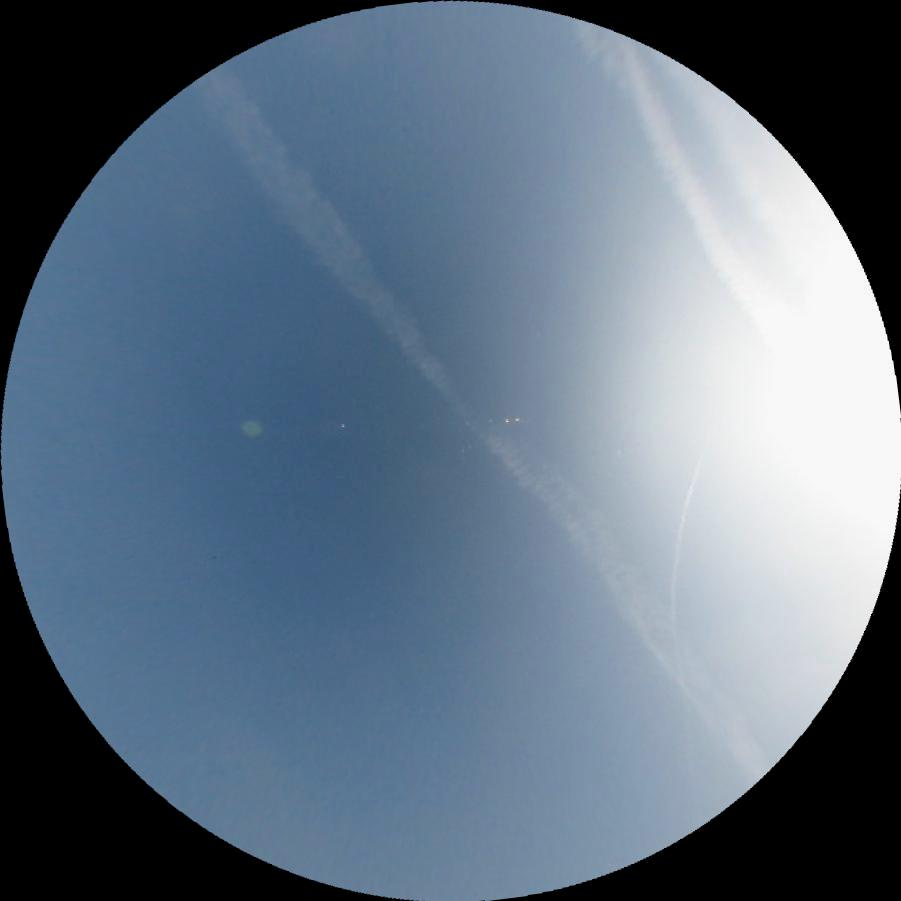contrail old: (661, 447, 704, 622)
contrail veryold: (181, 58, 790, 782), (654, 21, 857, 294)
sun: (744, 275, 901, 545)
